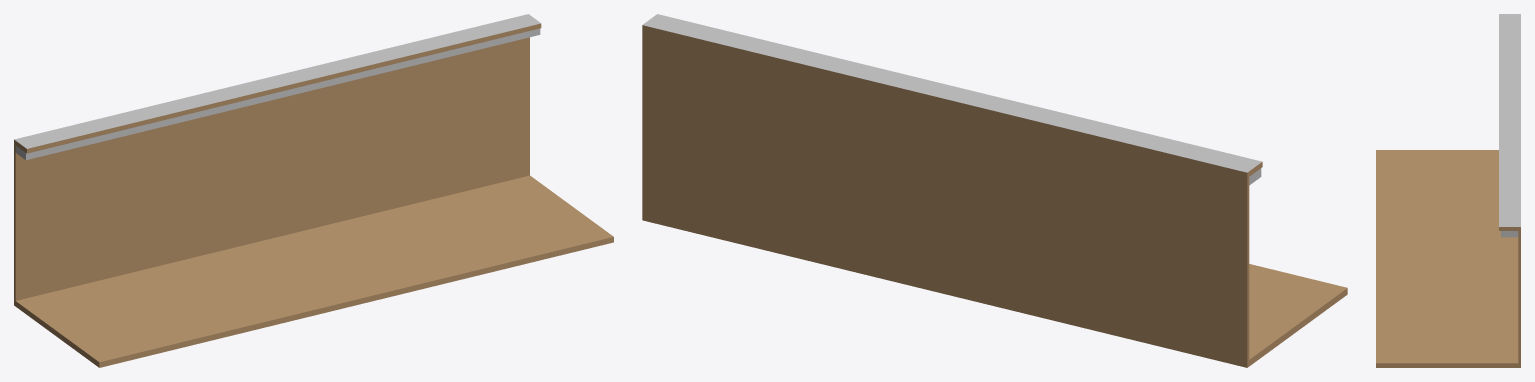
Rendered from stol_2.fbx.
3 renders of one model, left to right at view 1: azimuth 30°, elevation 25°; view 2: azimuth 150°, elevation 25°; view 3: azimuth 270°, elevation 25°, orthographic. The views are drawn at different scales.
Parts seen in each view (by area): view 1: stol_2; view 2: stol_2; view 3: stol_2.
Part boxes in pixels (<box>): stol_2: <box>14,14,613,367</box>; stol_2: <box>642,14,1347,367</box>; stol_2: <box>1376,14,1520,367</box>.
Size of the model in its own units: 259 by 79.95 by 74.53.
